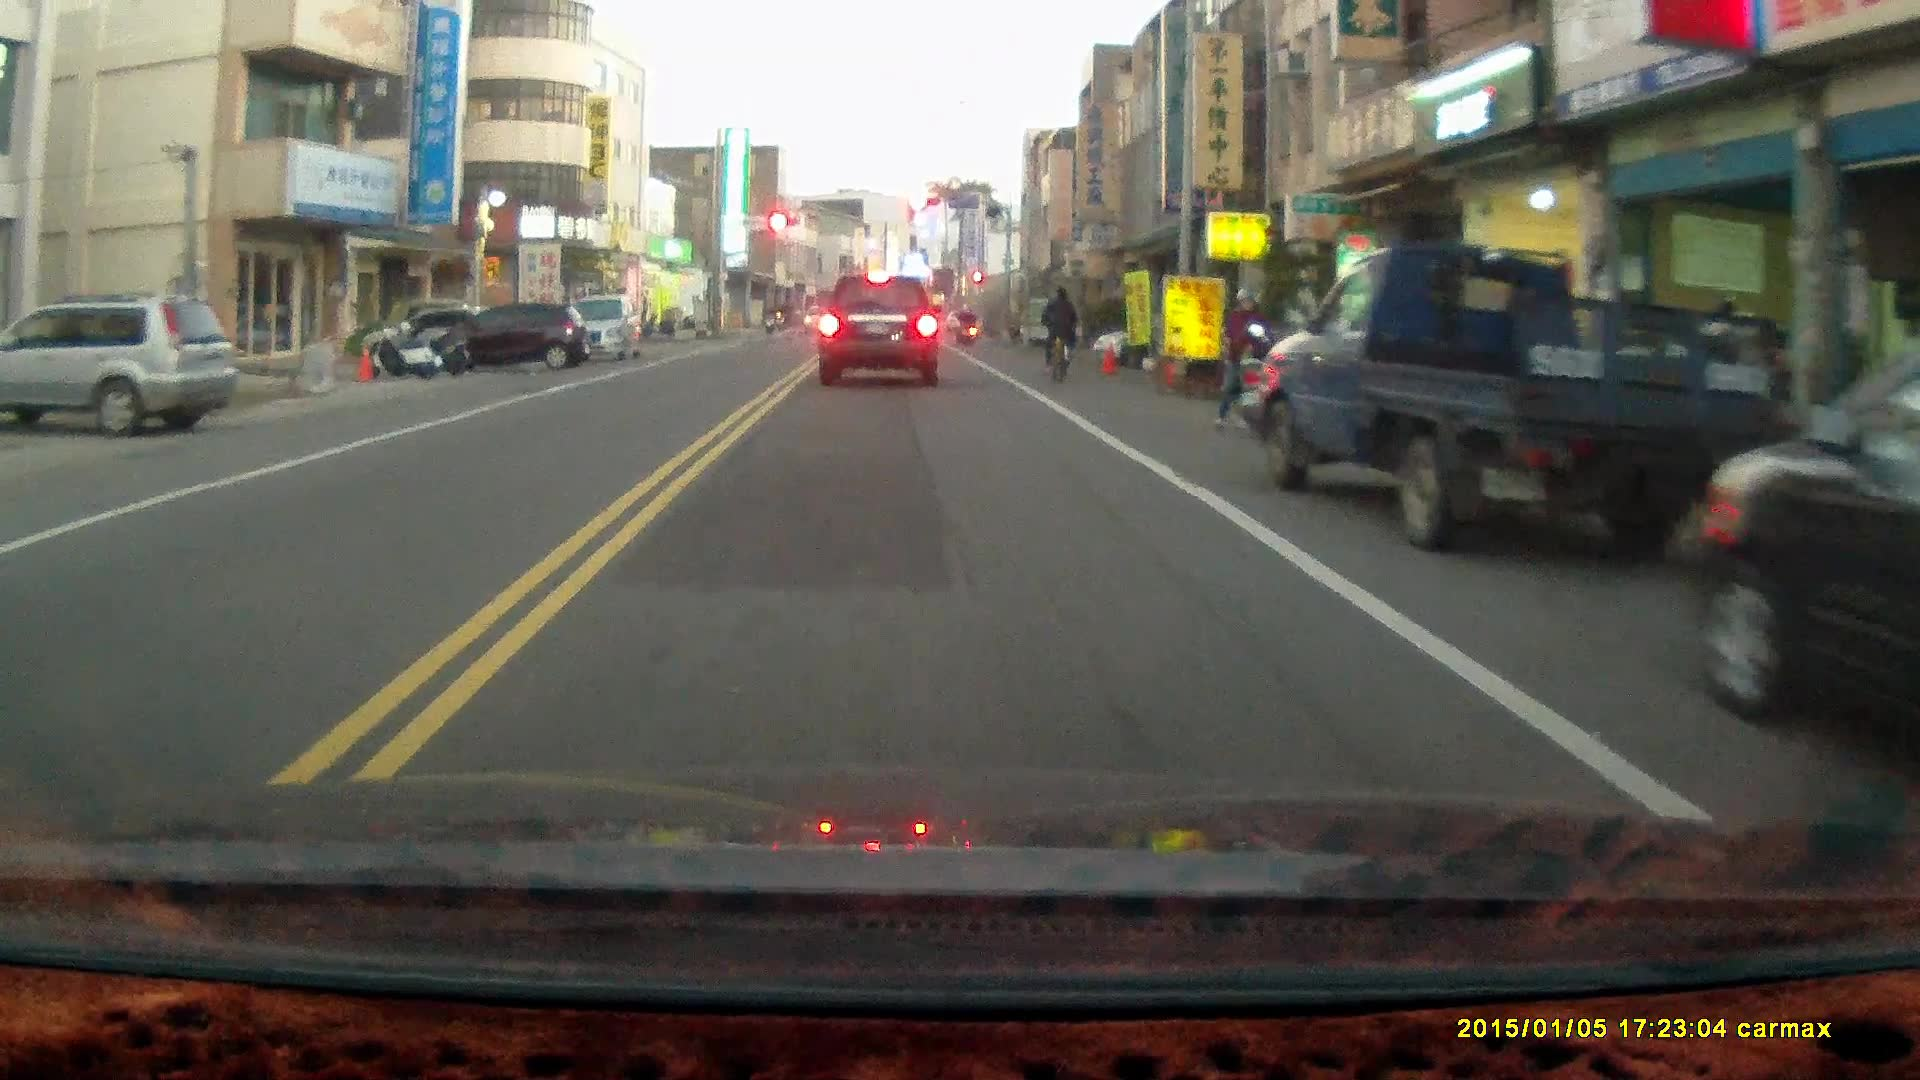pedestrian: (1214, 287, 1266, 435)
rider: (1040, 284, 1079, 386)
vehicle: (1240, 243, 1781, 560), (2, 292, 241, 436), (818, 271, 945, 391), (439, 302, 592, 377), (536, 292, 650, 365)
